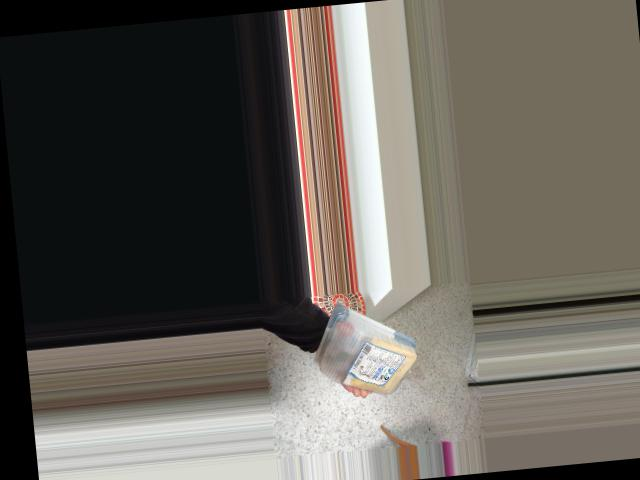cheese: (304, 290, 427, 409)
